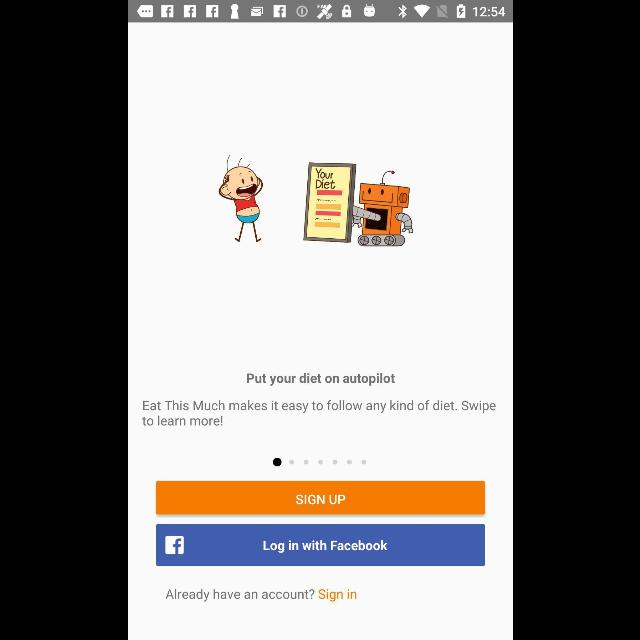image: (218, 155, 412, 247)
pageindicator: (272, 458, 366, 467)
text: (141, 400, 495, 426), (164, 588, 356, 602), (246, 372, 394, 386)
textbutton: (156, 524, 484, 566), (156, 481, 484, 515)
uppertaskbar: (128, 1, 512, 23)
